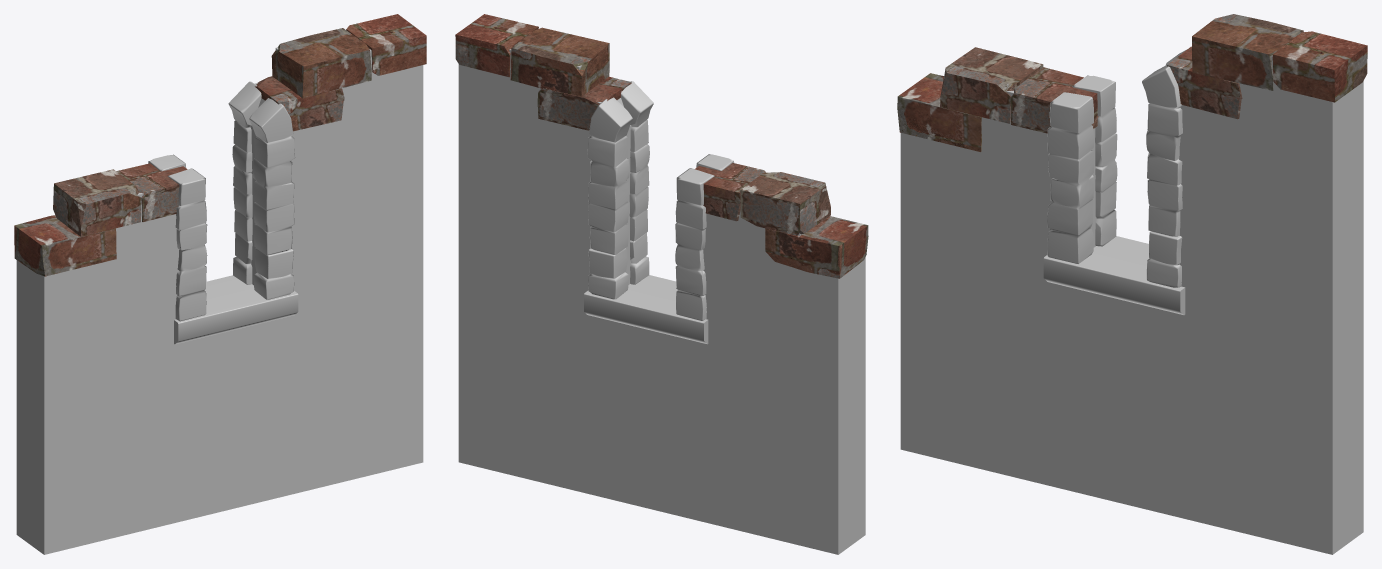
File: SM_Window_01_Ruined_02.fbx
The picture shows the model from 3 angles, left to right: view 1: azimuth 30°, elevation 25°; view 2: azimuth 150°, elevation 25°; view 3: azimuth 330°, elevation 25°; orthographic projection. The views are drawn at different scales.
Visible parts, largest first — view 1: SM_Window_01_Ruined_02_LOD0; view 2: SM_Window_01_Ruined_02_LOD0; view 3: SM_Window_01_Ruined_02_LOD0.
Boxes of the visible parts, x1,y1,x2,y2 form: SM_Window_01_Ruined_02_LOD0: [14, 14, 426, 554]; SM_Window_01_Ruined_02_LOD0: [455, 14, 868, 554]; SM_Window_01_Ruined_02_LOD0: [897, 14, 1367, 554].
Size of what is drawn, in the model's own units: 406 by 431 by 65.67.
